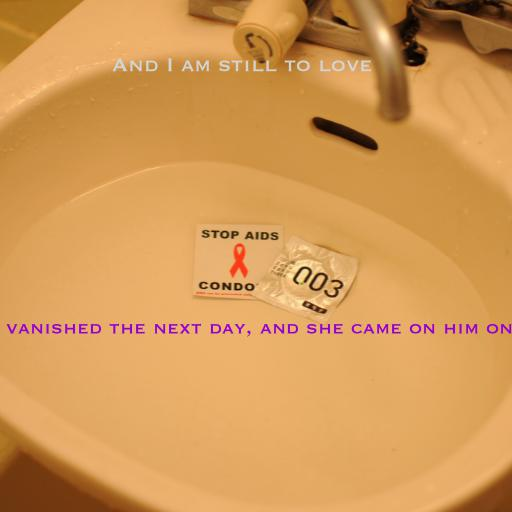Copperplate: (0, 322, 512, 337), (112, 58, 372, 72)
